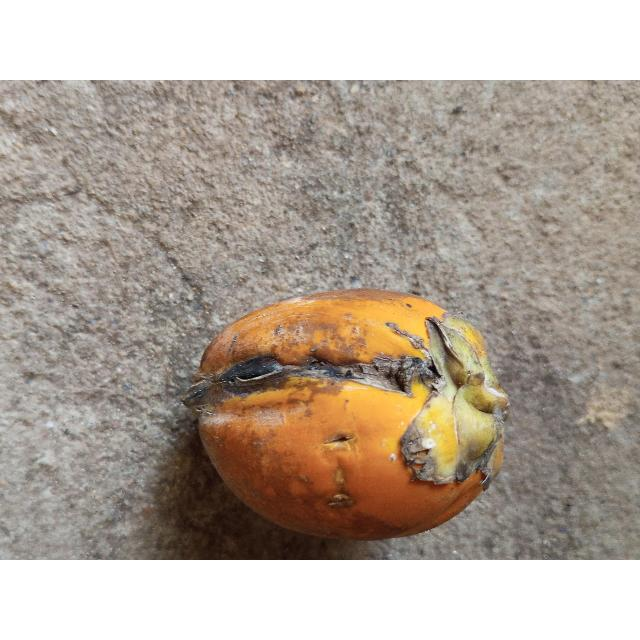damaged: (183, 289, 509, 543)
